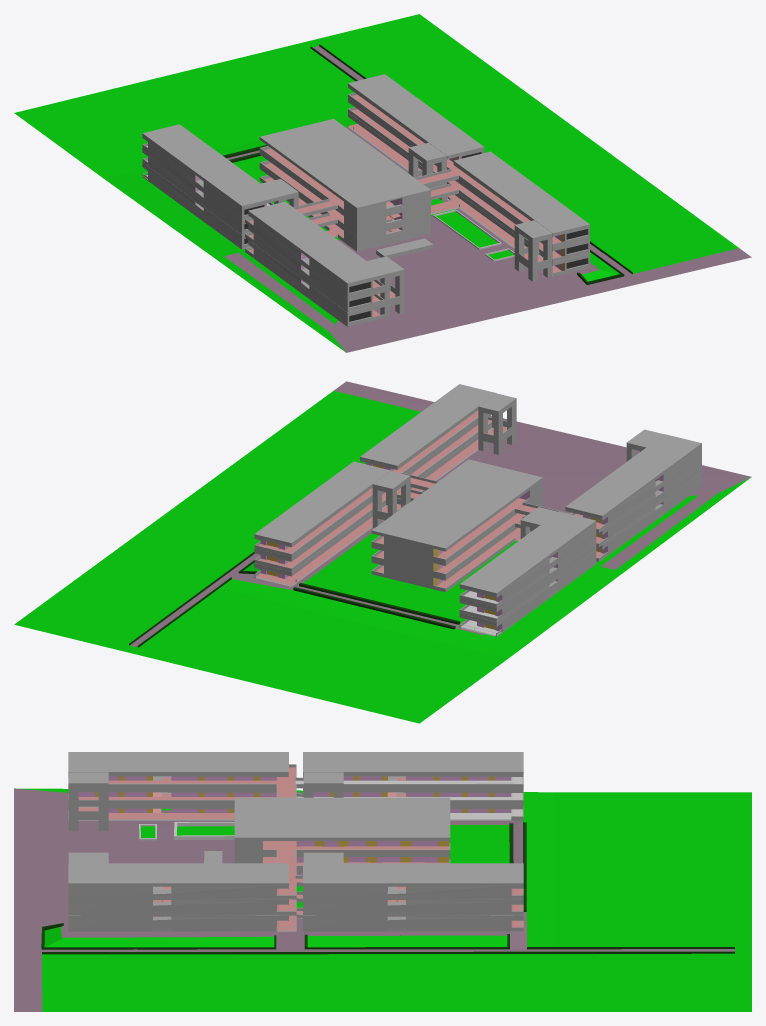
File: escom.fbx
3 renders of one model, top to bottom at view 1: azimuth 30°, elevation 25°; view 2: azimuth 150°, elevation 25°; view 3: azimuth 270°, elevation 25°, orthographic. The views are drawn at different scales.
Visible parts, largest first — view 1: Plane, Piso2, Piso1, Piso1.001, Cuadros; view 2: Plane, Piso2, Piso1, Piso1.001, Cuadros; view 3: Plane, Piso2, Piso1, Piso1.001, Cuadros.
Boxes of the visible parts, x1=… form: Plane: x1=14, y1=14, x2=751, y2=352; Piso2: x1=142, y1=74, x2=589, y2=297; Piso1: x1=142, y1=98, x2=589, y2=312; Piso1.001: x1=142, y1=112, x2=589, y2=326; Cuadros: x1=261, y1=142, x2=552, y2=317; Plane: x1=14, y1=381, x2=751, y2=723; Piso2: x1=254, y1=384, x2=701, y2=607; Piso1: x1=254, y1=414, x2=701, y2=622; Piso1.001: x1=254, y1=425, x2=701, y2=636; Cuadros: x1=372, y1=393, x2=663, y2=538; Plane: x1=14, y1=788, x2=751, y2=1011; Piso2: x1=68, y1=752, x2=523, y2=899; Piso1: x1=68, y1=776, x2=523, y2=915; Piso1.001: x1=68, y1=792, x2=523, y2=931; Cuadros: x1=68, y1=772, x2=343, y2=863.
Size of the model in its own units: 45.51 by 5.24 by 64.61.
